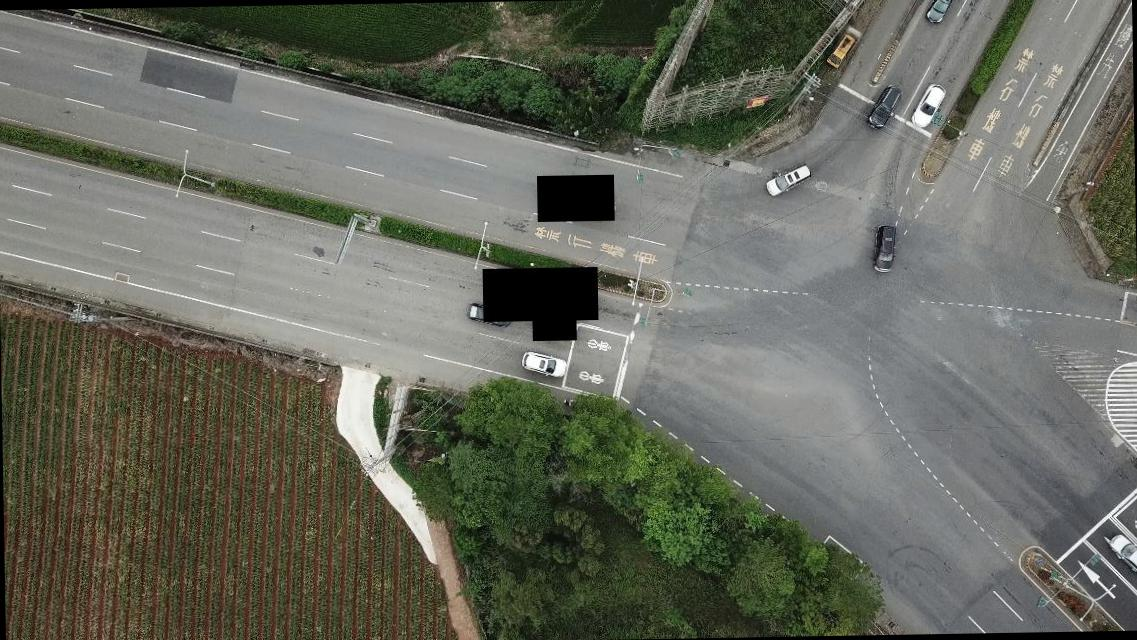vehicle: (864, 82, 902, 129), (909, 81, 947, 128), (765, 162, 812, 194), (1108, 533, 1136, 582), (520, 350, 567, 379), (872, 223, 896, 274), (825, 30, 857, 68), (467, 301, 511, 328), (922, 0, 955, 27)
